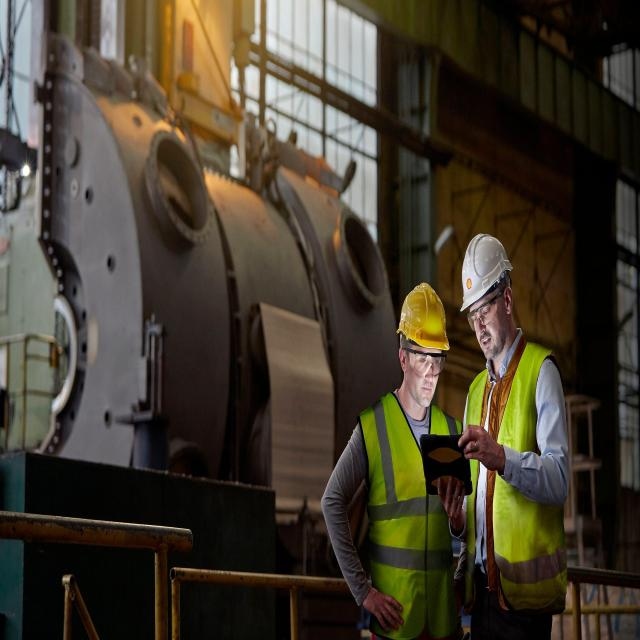Reflective-Jacket: (464, 345, 570, 615), (356, 393, 464, 638)
Safety-Helmet: (457, 226, 514, 316), (394, 280, 450, 354)
